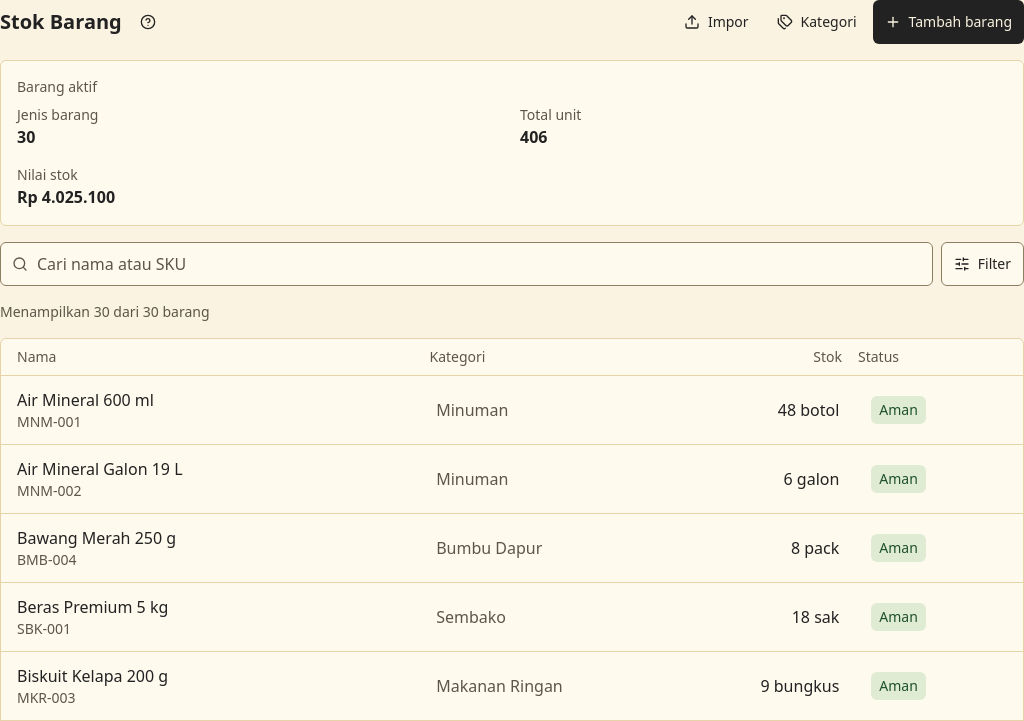
Test: filter daftar stok › HP: tombol Filter membuka Drawer berisi kategori, status, urutan, dan switch arsip
This screenshot has width=1024, height=721.
Click the button "Filter". click: (982, 264)
box: [941,242,1023,286]
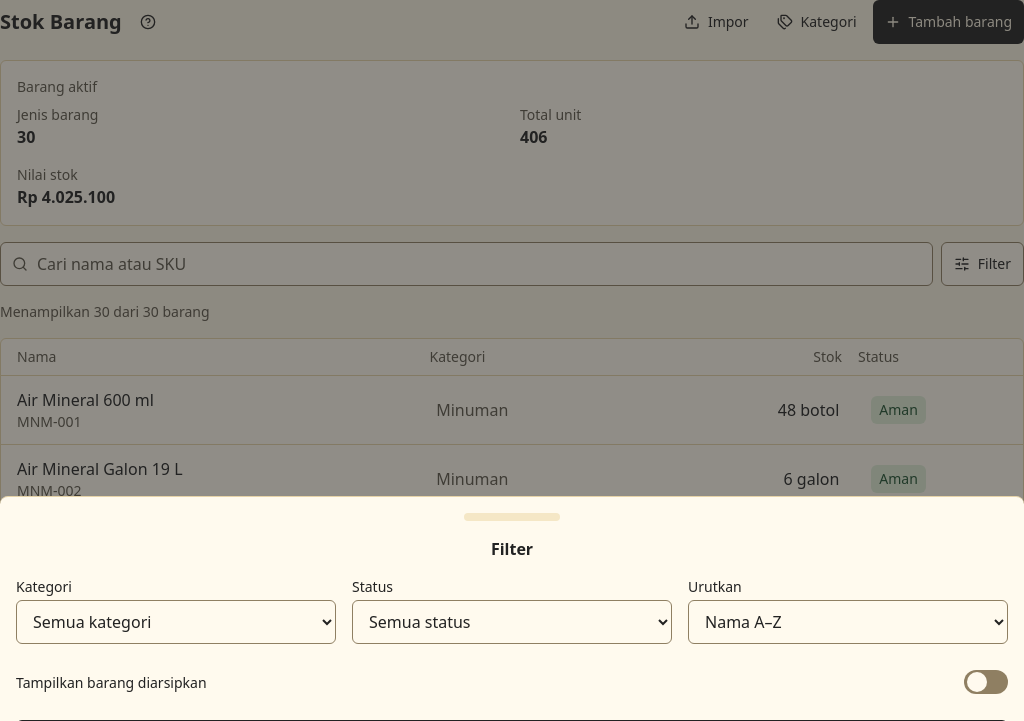
Expected: the dropdown with id "stock-category" is shown, [16,600,336,644]
Expected: the dropdown with id "stock-status" is shown, [352,600,672,644]
Expected: the dropdown with id "stock-sort" is shown, [688,600,1008,644]
